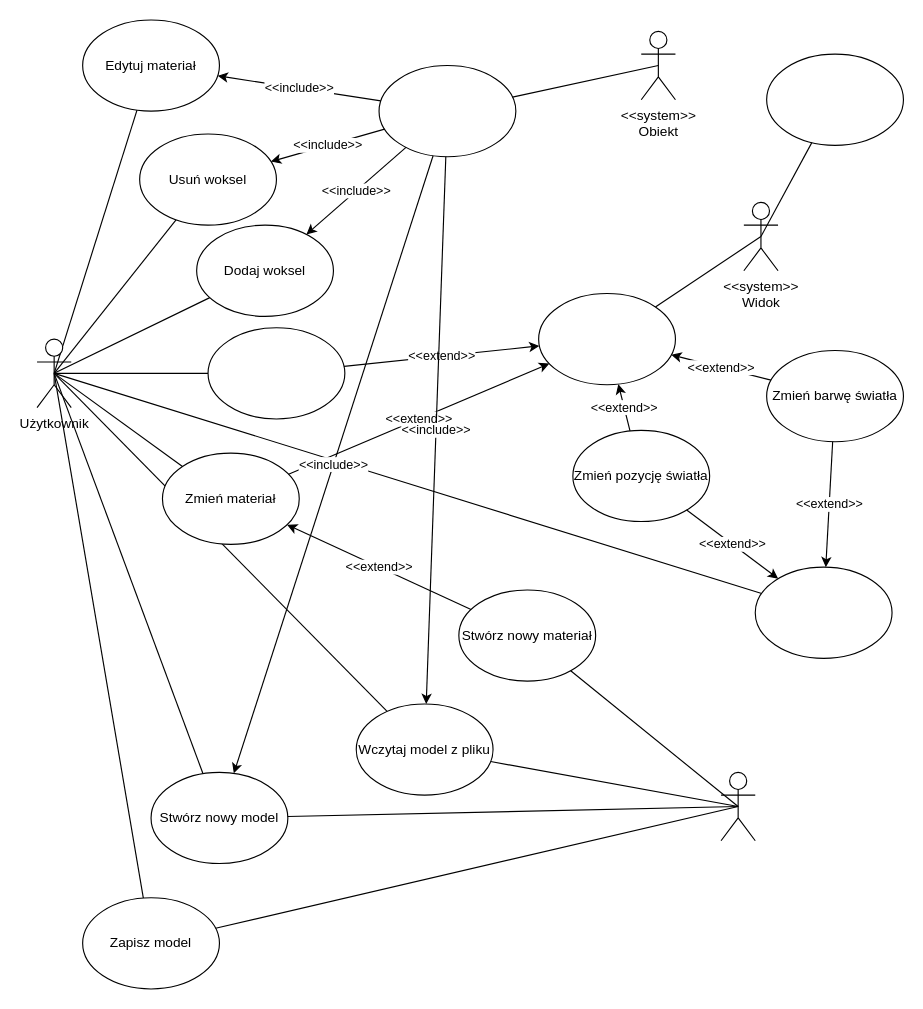
Some shapes in this 923 by 1009 pixel diagram are drawn without their labels. Here are the shapes that lost their labels. From the top down, the box of each, then its label:
(378, 64, 516, 157): Zaktualizuj strukturę modelu
(766, 53, 903, 145): Wyświetl nową klatkę
(538, 292, 675, 385): Wyświetl okienko
(207, 327, 345, 419): Wybierz materiał
(754, 566, 892, 658): Zmień właściwości naświetlenia
(720, 771, 755, 841): <<system>> Aplikacja
